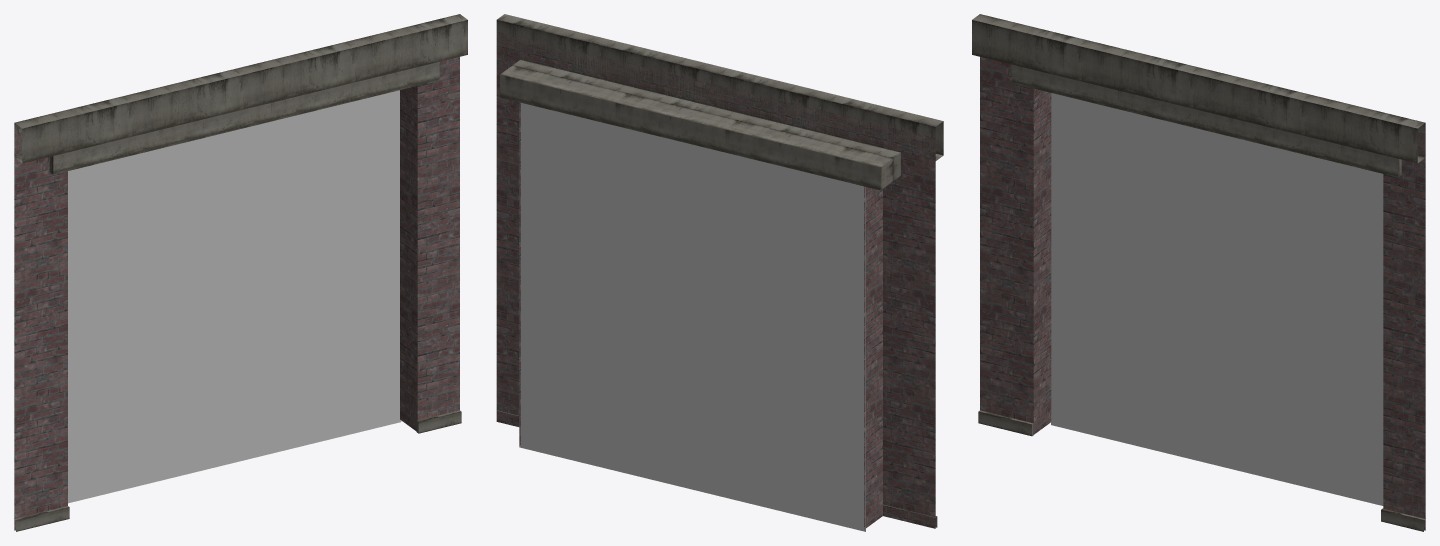
The model's file is Wall_A_Brick_Shops_China_4x.FBX.
3 views of the same model, side by side, from view 1: azimuth 30°, elevation 25°; view 2: azimuth 150°, elevation 25°; view 3: azimuth 330°, elevation 25° (orthographic).
Visible parts, largest first — view 1: Wall_A_Brick_Shops_China_4x; view 2: Wall_A_Brick_Shops_China_4x; view 3: Wall_A_Brick_Shops_China_4x.
Part boxes in pixels (bbox=[...]): Wall_A_Brick_Shops_China_4x: bbox=[14, 14, 467, 531]; Wall_A_Brick_Shops_China_4x: bbox=[496, 14, 943, 531]; Wall_A_Brick_Shops_China_4x: bbox=[972, 14, 1425, 531].
Size of the model in its own units: 400 by 353 by 44.56.
